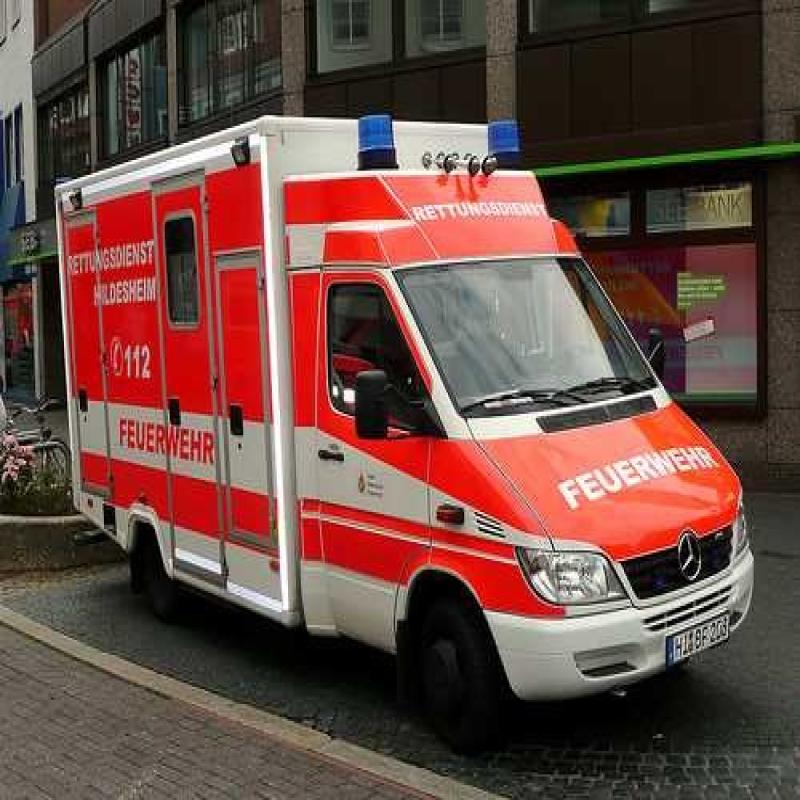AmbulanceSiren: (336, 107, 402, 167)
